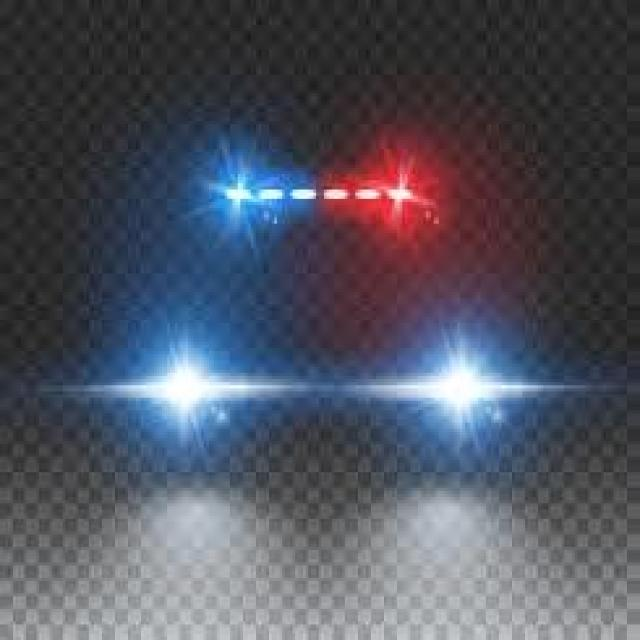ambulance: (157, 150, 458, 300)
